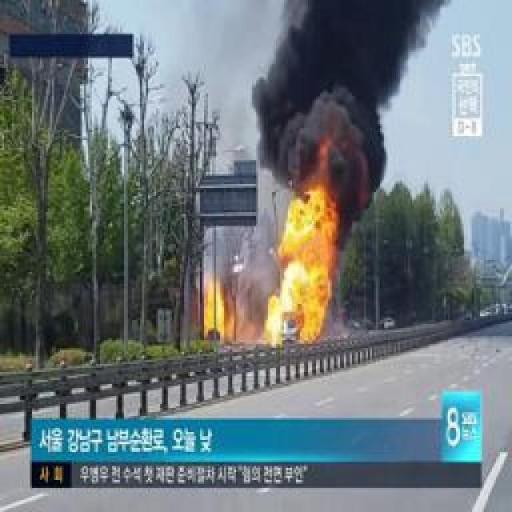smoke: (285, 214, 328, 326), (204, 300, 226, 334), (266, 304, 284, 342)
